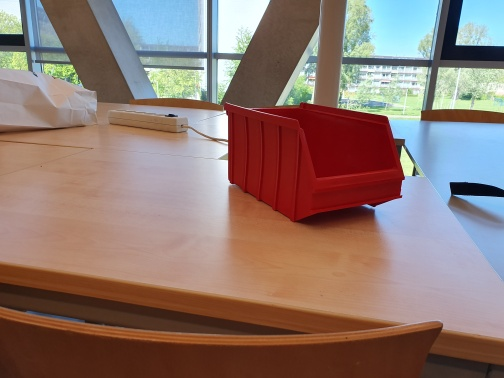tray_left: (223, 101, 319, 225)
